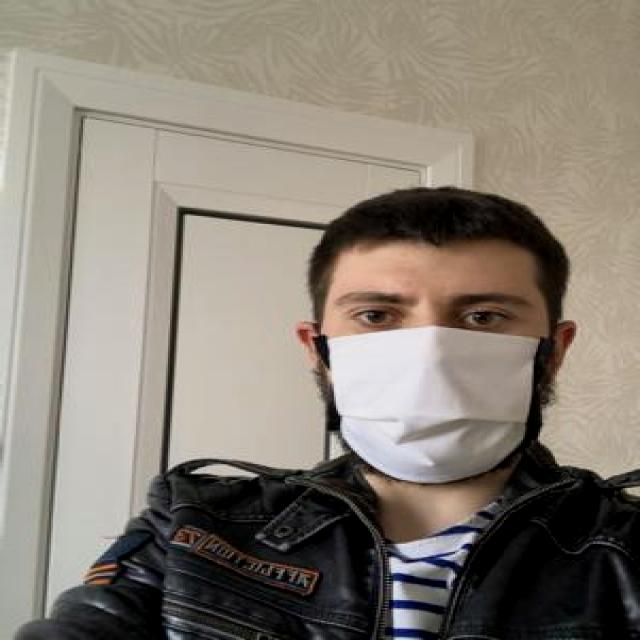face_mask: (315, 275, 553, 485)
head_nohelmet: (326, 186, 580, 272)
person: (15, 163, 640, 640)
